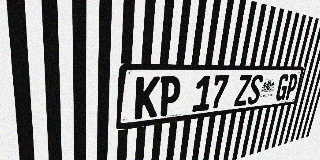1: (192, 75, 214, 112)
7: (209, 75, 229, 110)
G: (275, 74, 290, 101)
K: (134, 76, 160, 120)
P: (157, 76, 182, 117), (284, 74, 299, 100)
S: (247, 74, 264, 105)
Z: (234, 75, 252, 107)
